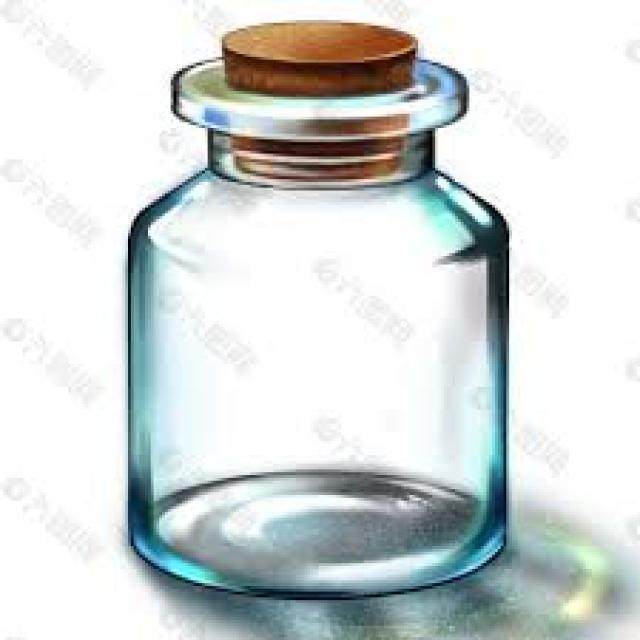glass: (122, 54, 509, 597)
